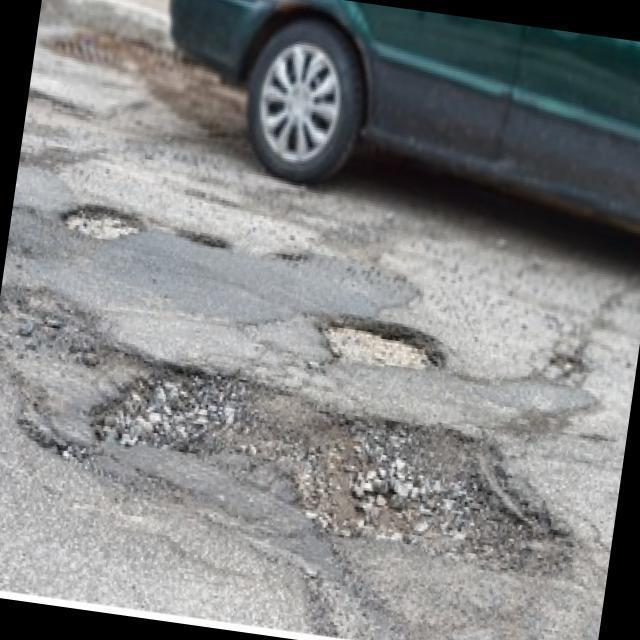pothole: (73, 349, 586, 584), (0, 278, 108, 397), (311, 307, 448, 380), (59, 196, 149, 250), (175, 225, 231, 252), (547, 348, 590, 378)
